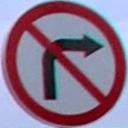NoVirarDireita: (5, 0, 128, 128)
